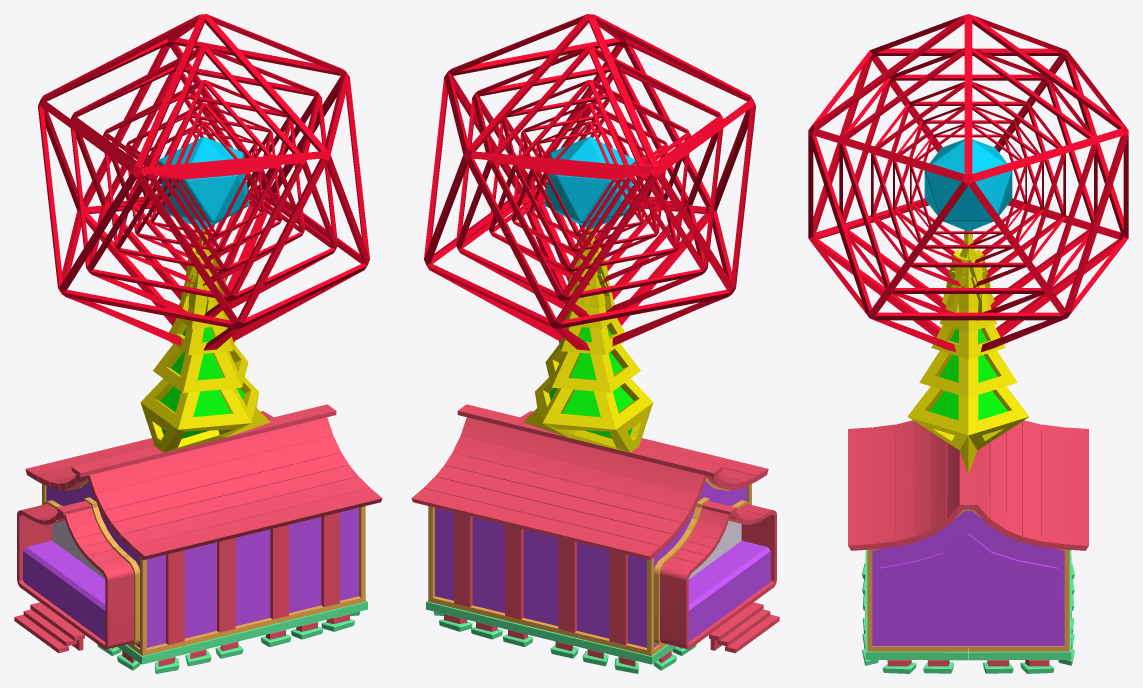
Rendered from Shop1.fbx.
The picture shows the model from 3 angles, left to right: view 1: azimuth 30°, elevation 25°; view 2: azimuth 150°, elevation 25°; view 3: azimuth 270°, elevation 25°; orthographic projection.
Parts seen in each view (by area): view 1: Shop, Shop Top; view 2: Shop, Shop Top; view 3: Shop Top, Shop.
Part boxes in pixels (<box>): Shop: <box>14,404,382,673</box>; Shop Top: <box>38,14,369,452</box>; Shop: <box>411,404,779,673</box>; Shop Top: <box>424,14,755,452</box>; Shop Top: <box>808,14,1128,474</box>; Shop: <box>848,420,1088,673</box>.
Bounding box in the file's own units: 1859 × 3395 × 1639.
